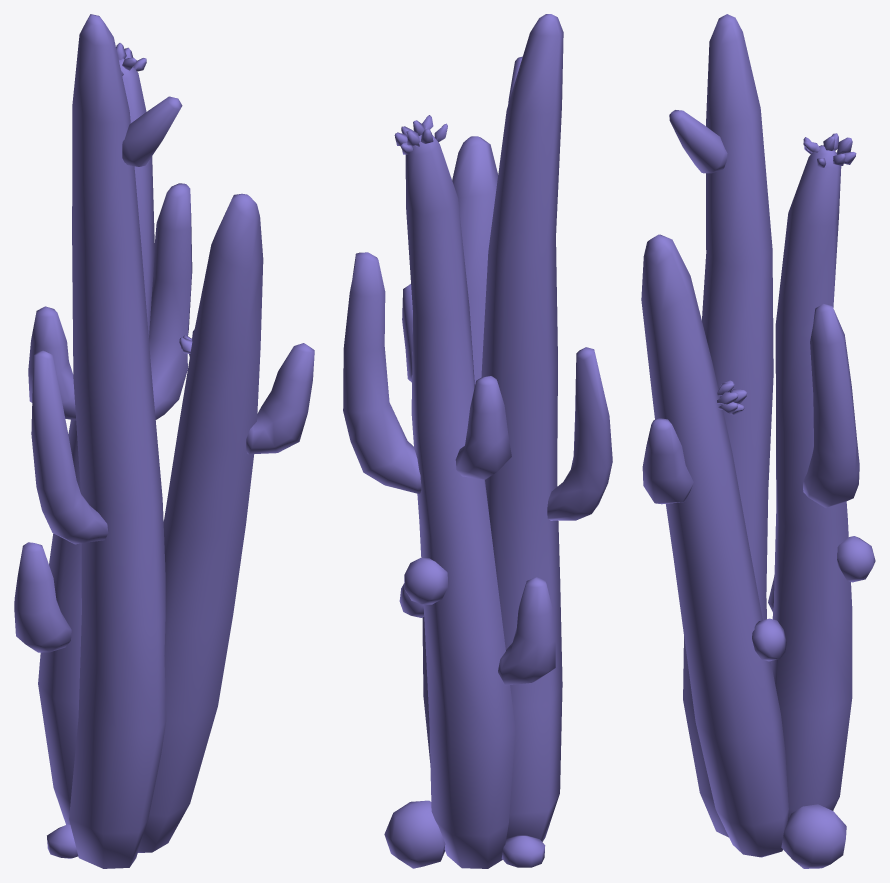
File: Cactus_Tall_03.fbx
3 renders of one model, left to right at view 1: azimuth 30°, elevation 25°; view 2: azimuth 150°, elevation 25°; view 3: azimuth 270°, elevation 25°, orthographic. The views are drawn at different scales.
Visible parts, largest first — view 1: Cactus_Tall_03; view 2: Cactus_Tall_03; view 3: Cactus_Tall_03.
Boxes of the visible parts, x1,y1,x2,y2 form: Cactus_Tall_03: (14, 14, 314, 868); Cactus_Tall_03: (343, 14, 612, 868); Cactus_Tall_03: (641, 14, 875, 868).
Bounding box in the file's own units: 113 × 384 × 101.
